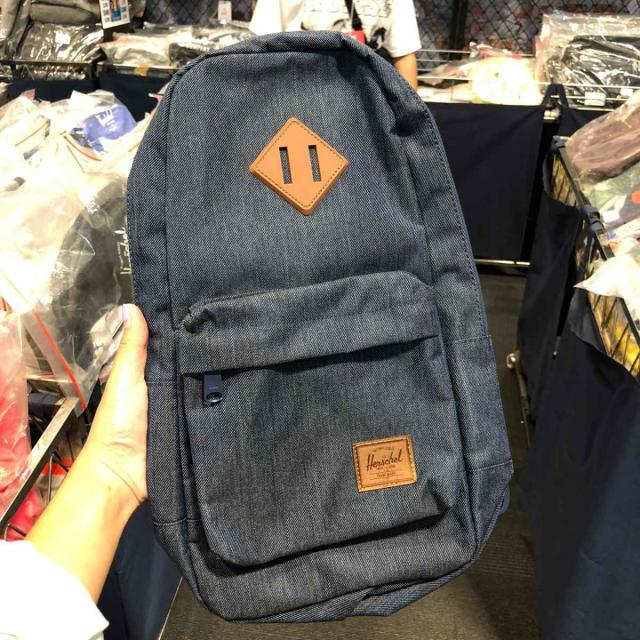Handbag: (115, 25, 522, 629)
